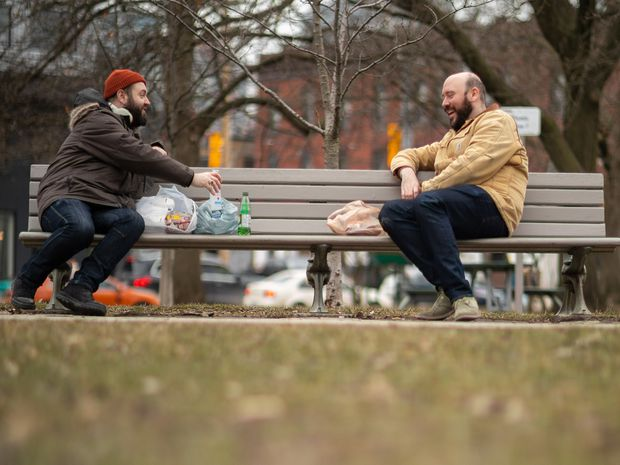Caution: (11, 68, 529, 321)
